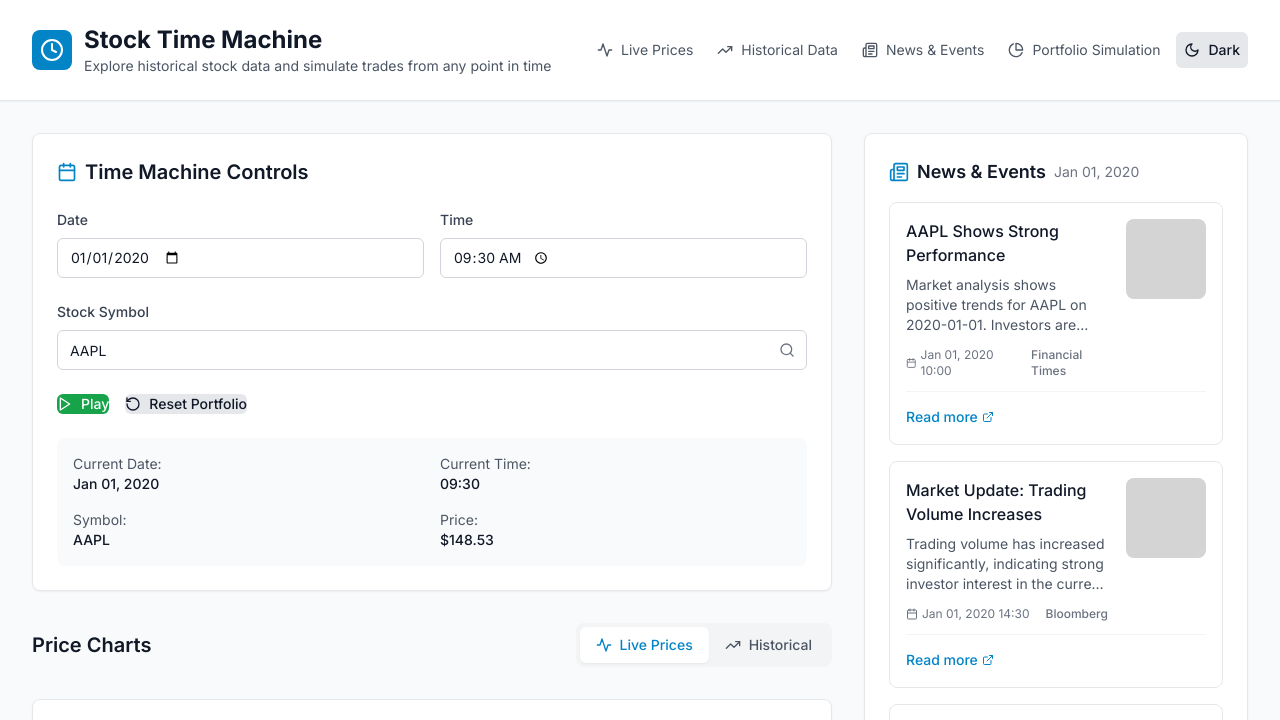
Test: Stock Time Machine E2E Tests › should allow changing the time
Replace the text in the time field with "14:30". click: (624, 258)
box: [440,238,807,278]
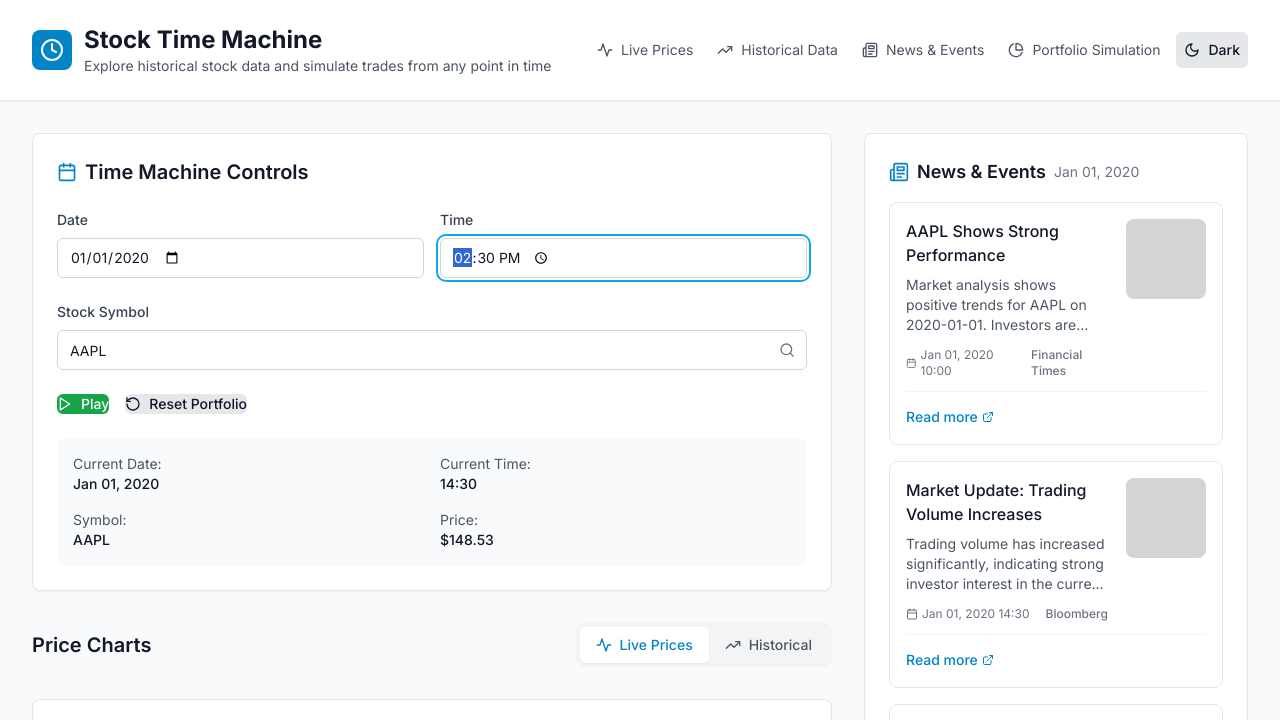
Expected: the time field holds "14:30", [440,238,807,278]
